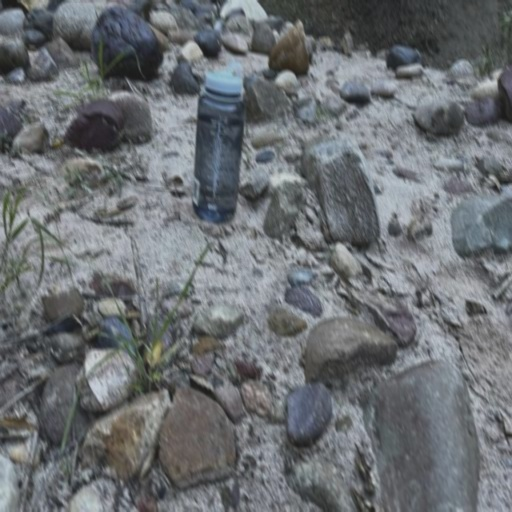bottle: (194, 62, 246, 224)
